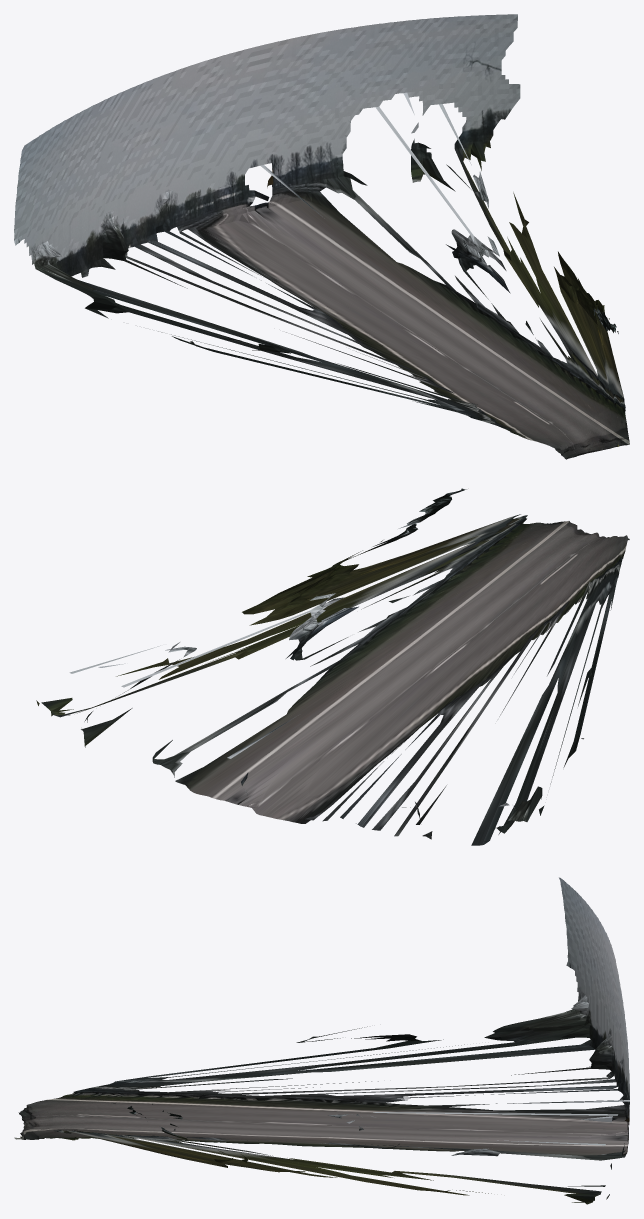
3 views of the same model, one above another, from view 1: azimuth 30°, elevation 25°; view 2: azimuth 150°, elevation 25°; view 3: azimuth 270°, elevation 25° (orthographic). The views are drawn at different scales.
Parts seen in each view (by area): view 1: defaultobject; view 2: defaultobject; view 3: defaultobject.
Boxes of the visible parts, <box> form: defaultobject: <box>14,14,629,459</box>; defaultobject: <box>36,488,629,845</box>; defaultobject: <box>14,877,629,1204</box>.
Size of the model in its own units: 38.44 by 12.7 by 44.78.
1 material, 1 textured.
